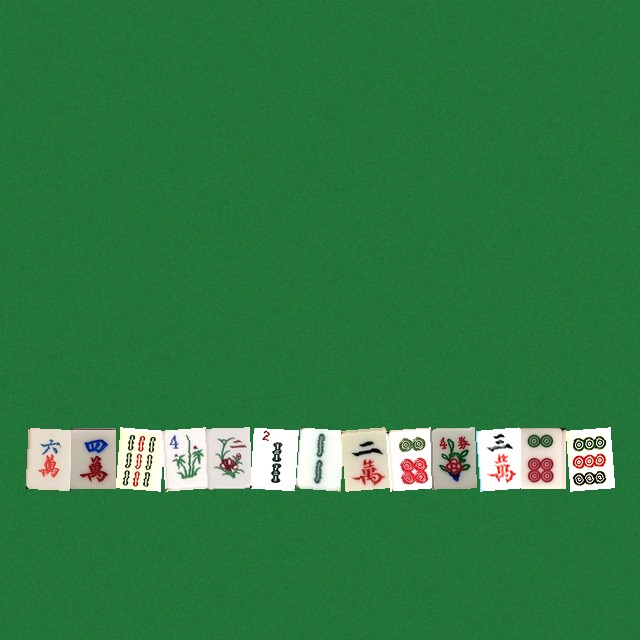tile: (25, 427, 70, 488), (70, 427, 115, 488), (115, 427, 160, 488), (160, 427, 205, 488), (205, 427, 250, 488), (250, 427, 295, 488), (295, 427, 340, 488), (340, 427, 385, 488), (385, 427, 430, 488), (430, 427, 475, 488), (475, 427, 520, 488), (520, 427, 565, 488), (565, 427, 610, 488)
